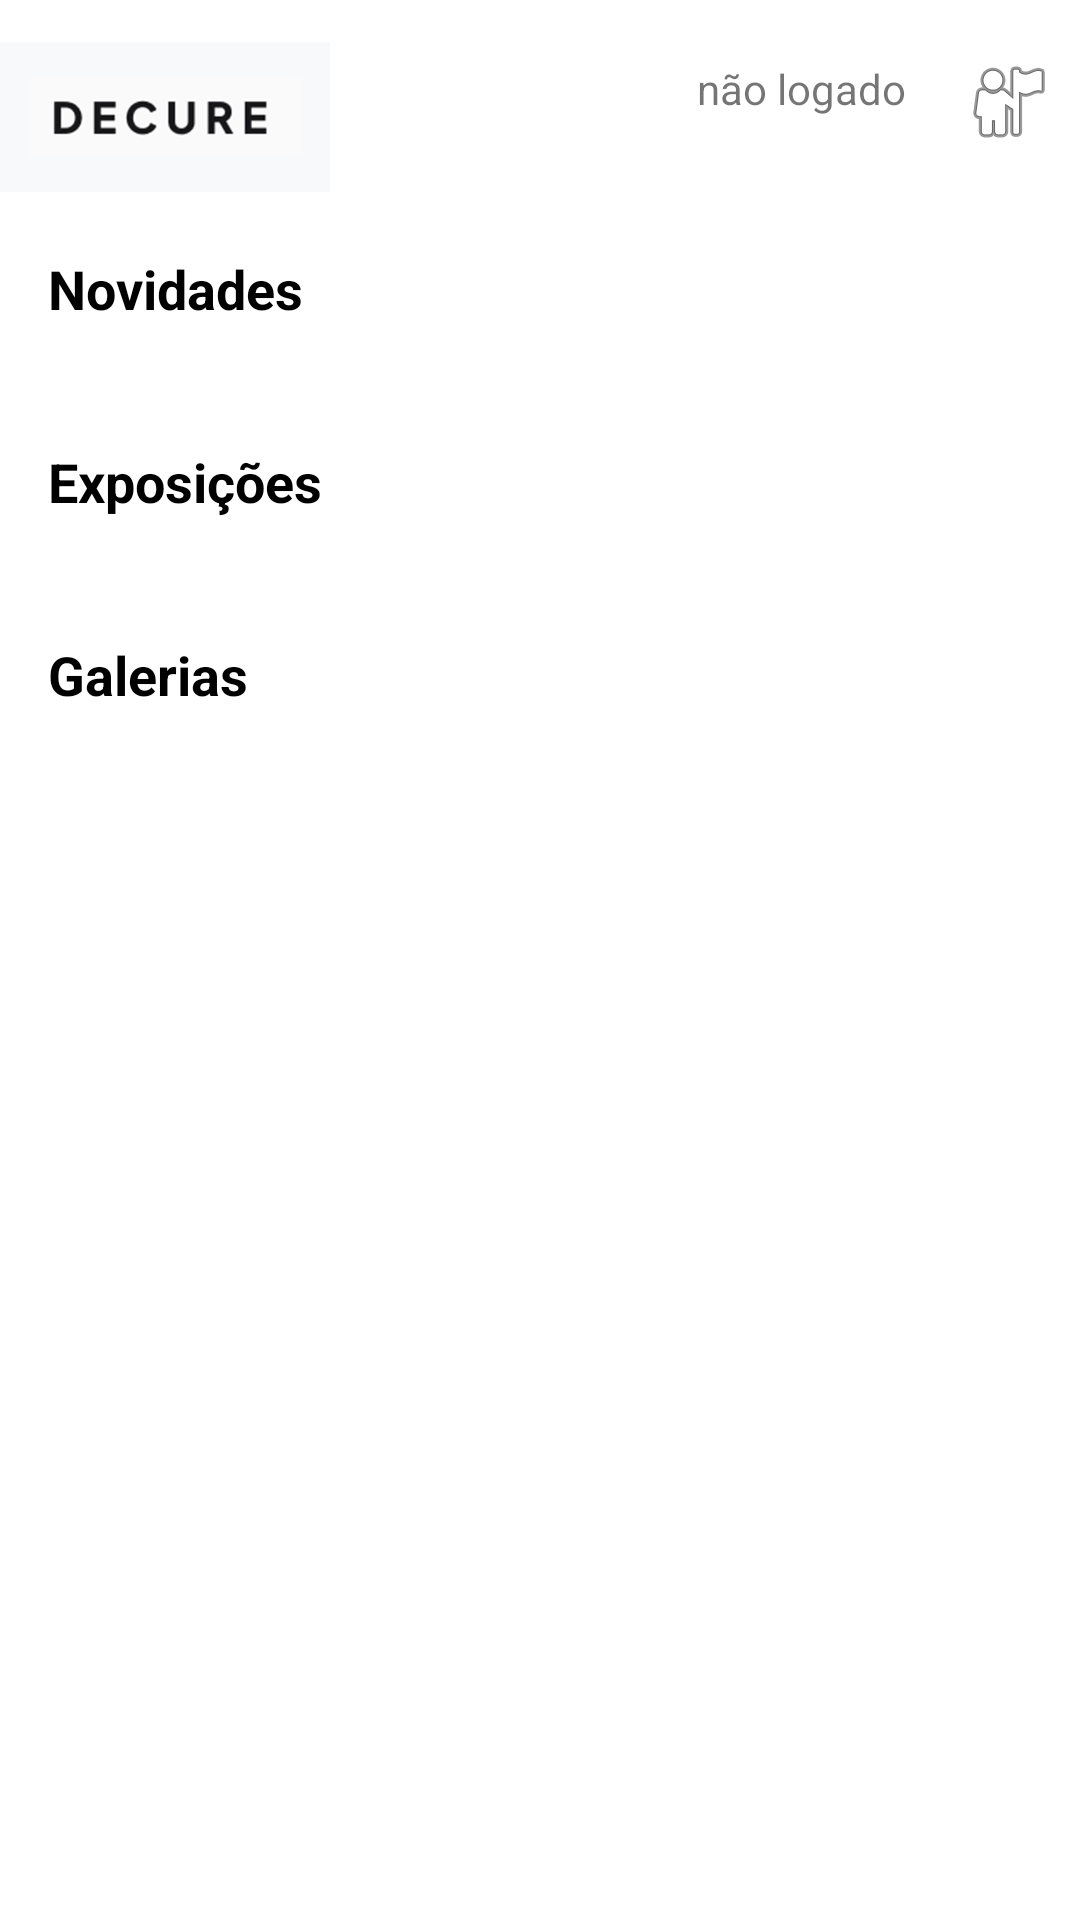

Icons on this 1080w x 1920h Android screen, each with its box as rect(x1, y1, x2, y2):
Perfil: rect(973, 66, 1045, 138)
